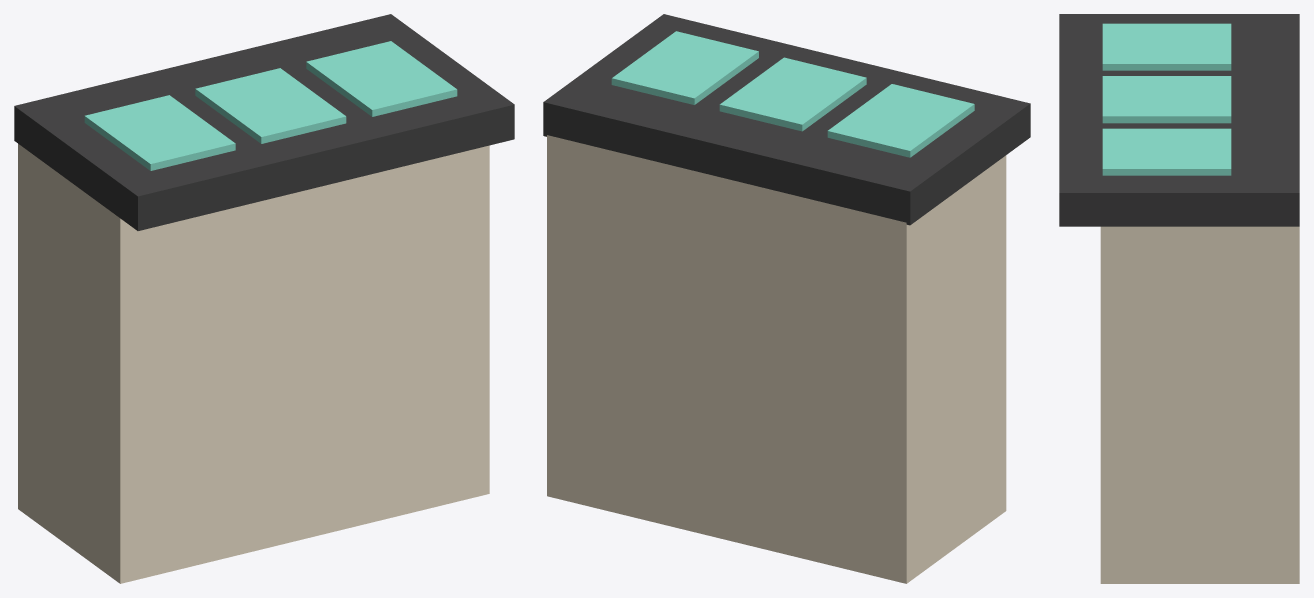
The picture shows the model from 3 angles, left to right: view 1: azimuth 30°, elevation 25°; view 2: azimuth 150°, elevation 25°; view 3: azimuth 270°, elevation 25°; orthographic projection. The views are drawn at different scales.
Visible parts, largest first — view 1: Console, Panel, Readout, Readout.001, Readout.002; view 2: Console, Panel, Readout, Readout.001, Readout.002; view 3: Console, Panel, Readout, Readout.001, Readout.002.
Part boxes in pixels (x1,y1,x2,y2): Console: (18,144,489,583); Panel: (14,14,514,230); Readout: (84,95,235,170); Readout.001: (195,68,346,143); Readout.002: (306,41,457,116); Console: (547,135,1006,583); Panel: (543,14,1030,225); Readout: (827,84,974,157); Readout.001: (719,57,866,131); Readout.002: (611,31,758,104); Console: (1100,226,1299,583); Panel: (1059,14,1299,226); Readout: (1102,23,1231,70); Readout.001: (1102,76,1231,123); Readout.002: (1102,128,1231,175).
Bounding box in the file's own units: 102 × 106 × 58.
